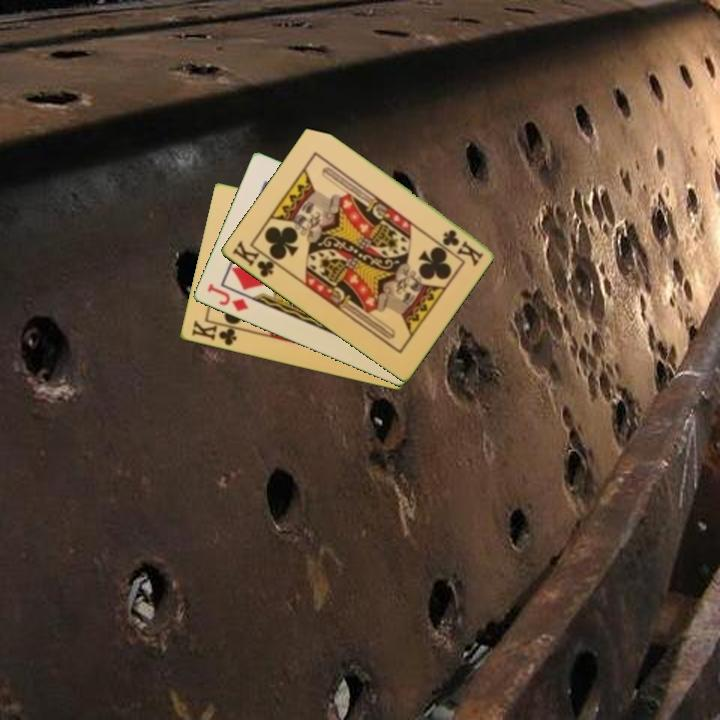Jd: (203, 280, 251, 315)
Kc: (228, 237, 283, 280), (438, 226, 486, 267), (187, 317, 244, 349)
